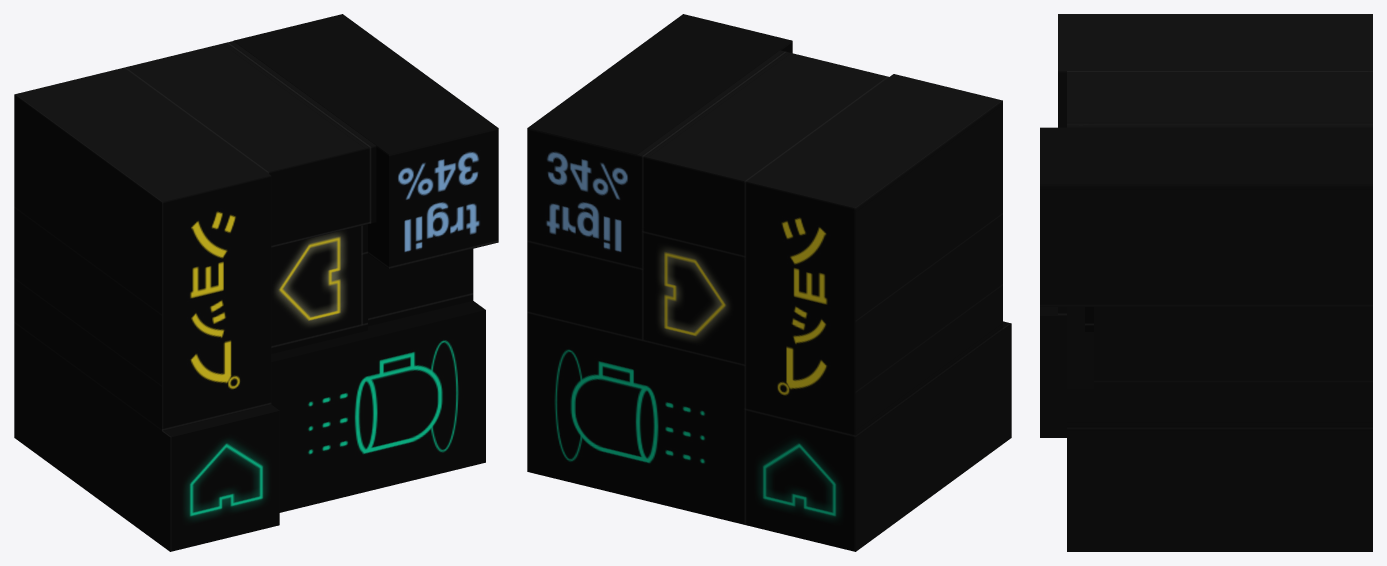
The model's file is lego building mesh simplified_gabi 01_icon.fbx.
The picture shows the model from 3 angles, left to right: view 1: azimuth 30°, elevation 25°; view 2: azimuth 150°, elevation 25°; view 3: azimuth 270°, elevation 25°; orthographic projection. The views are drawn at different scales.
Parts seen in each view (by area): view 1: Layer 03; view 2: Layer 03; view 3: Layer 03.
Boxes of the visible parts, left/top/right/bottom form: Layer 03: left=14, top=14, right=498, bottom=551; Layer 03: left=527, top=14, right=1011, bottom=551; Layer 03: left=1040, top=14, right=1372, bottom=551.
Bounding box in the file's own units: 360 × 360 × 296.
